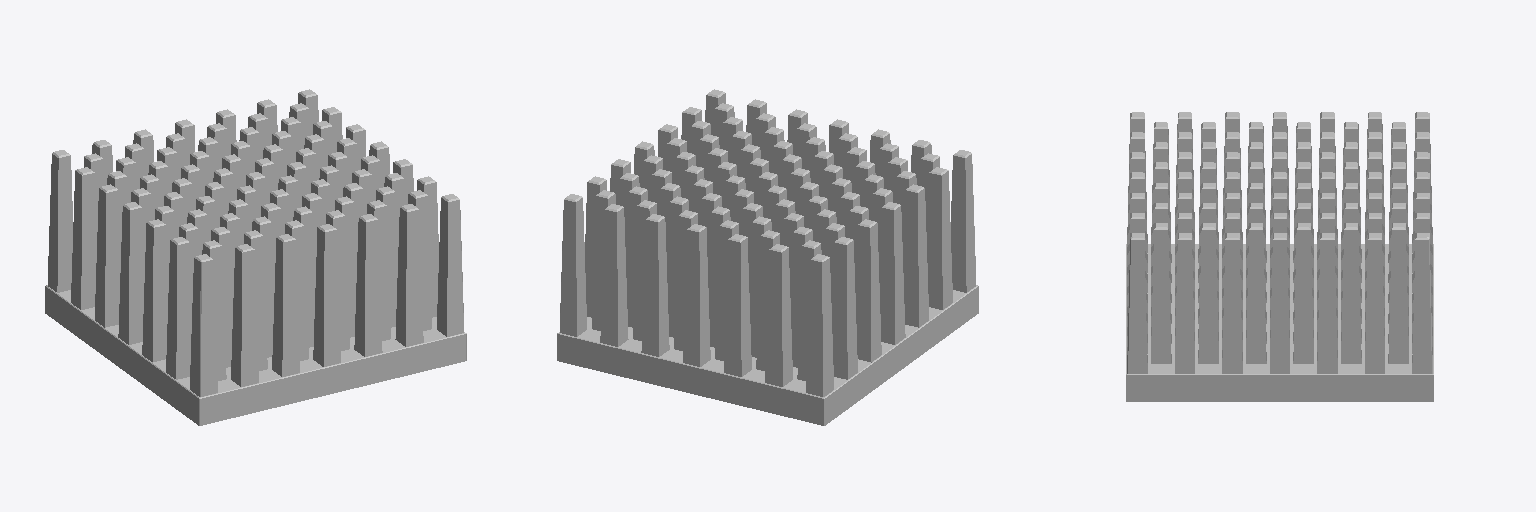
The model's file is heatsink.obj.
The picture shows the model from 3 angles: view 1: azimuth 30°, elevation 25°; view 2: azimuth 150°, elevation 25°; view 3: azimuth 270°, elevation 25°; orthographic projection.
Parts seen in each view (by area): view 1: Cube; view 2: Cube; view 3: Cube.
Part boxes in pixels (bbox=[...]): Cube: bbox=[45, 89, 466, 425]; Cube: bbox=[557, 89, 978, 425]; Cube: bbox=[1126, 112, 1433, 401].
Bounding box in the file's own units: 0.1 × 0.058 × 0.1.